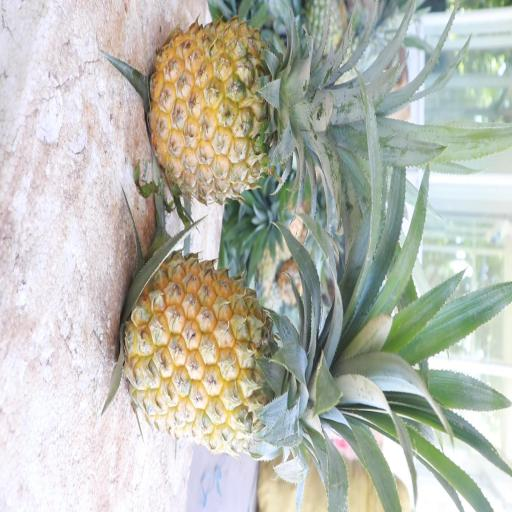Pineapple - v8 v1: (121, 249, 373, 460), (146, 12, 352, 211)
